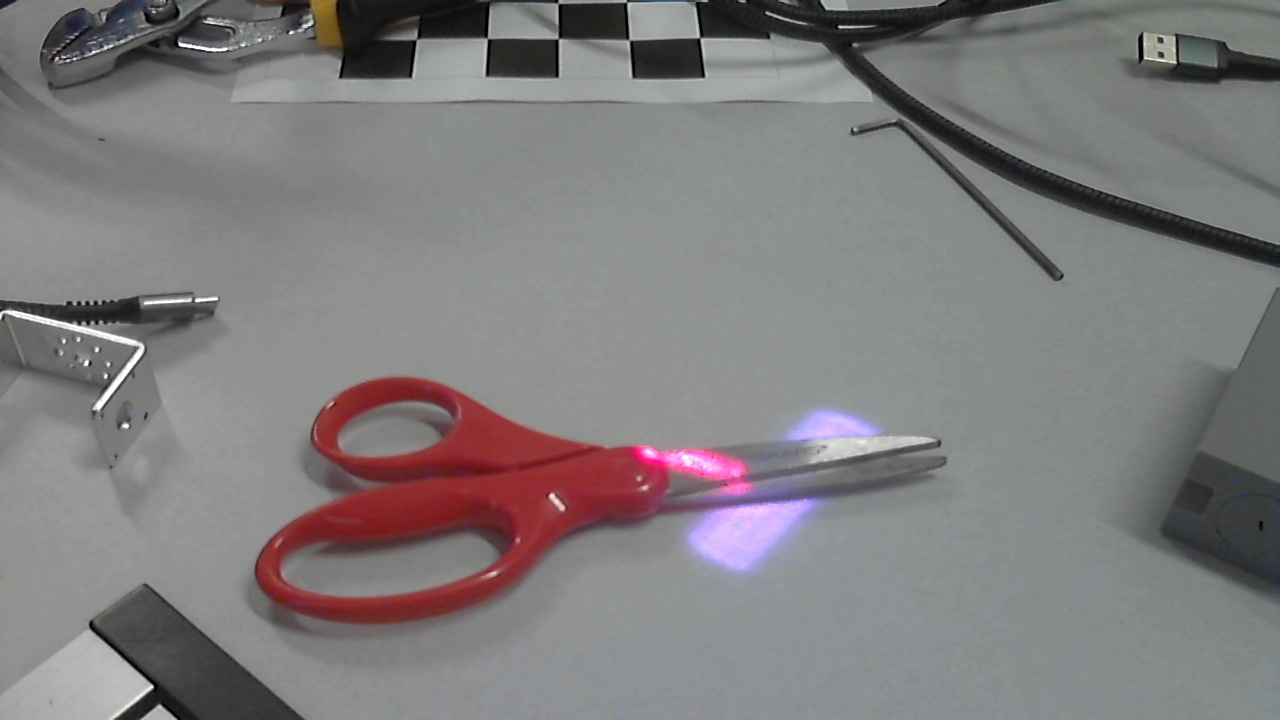Object robotic gripper finger assembly - Material metal - Pdfname Yy6dySnH33wN: (644, 406, 869, 583)
